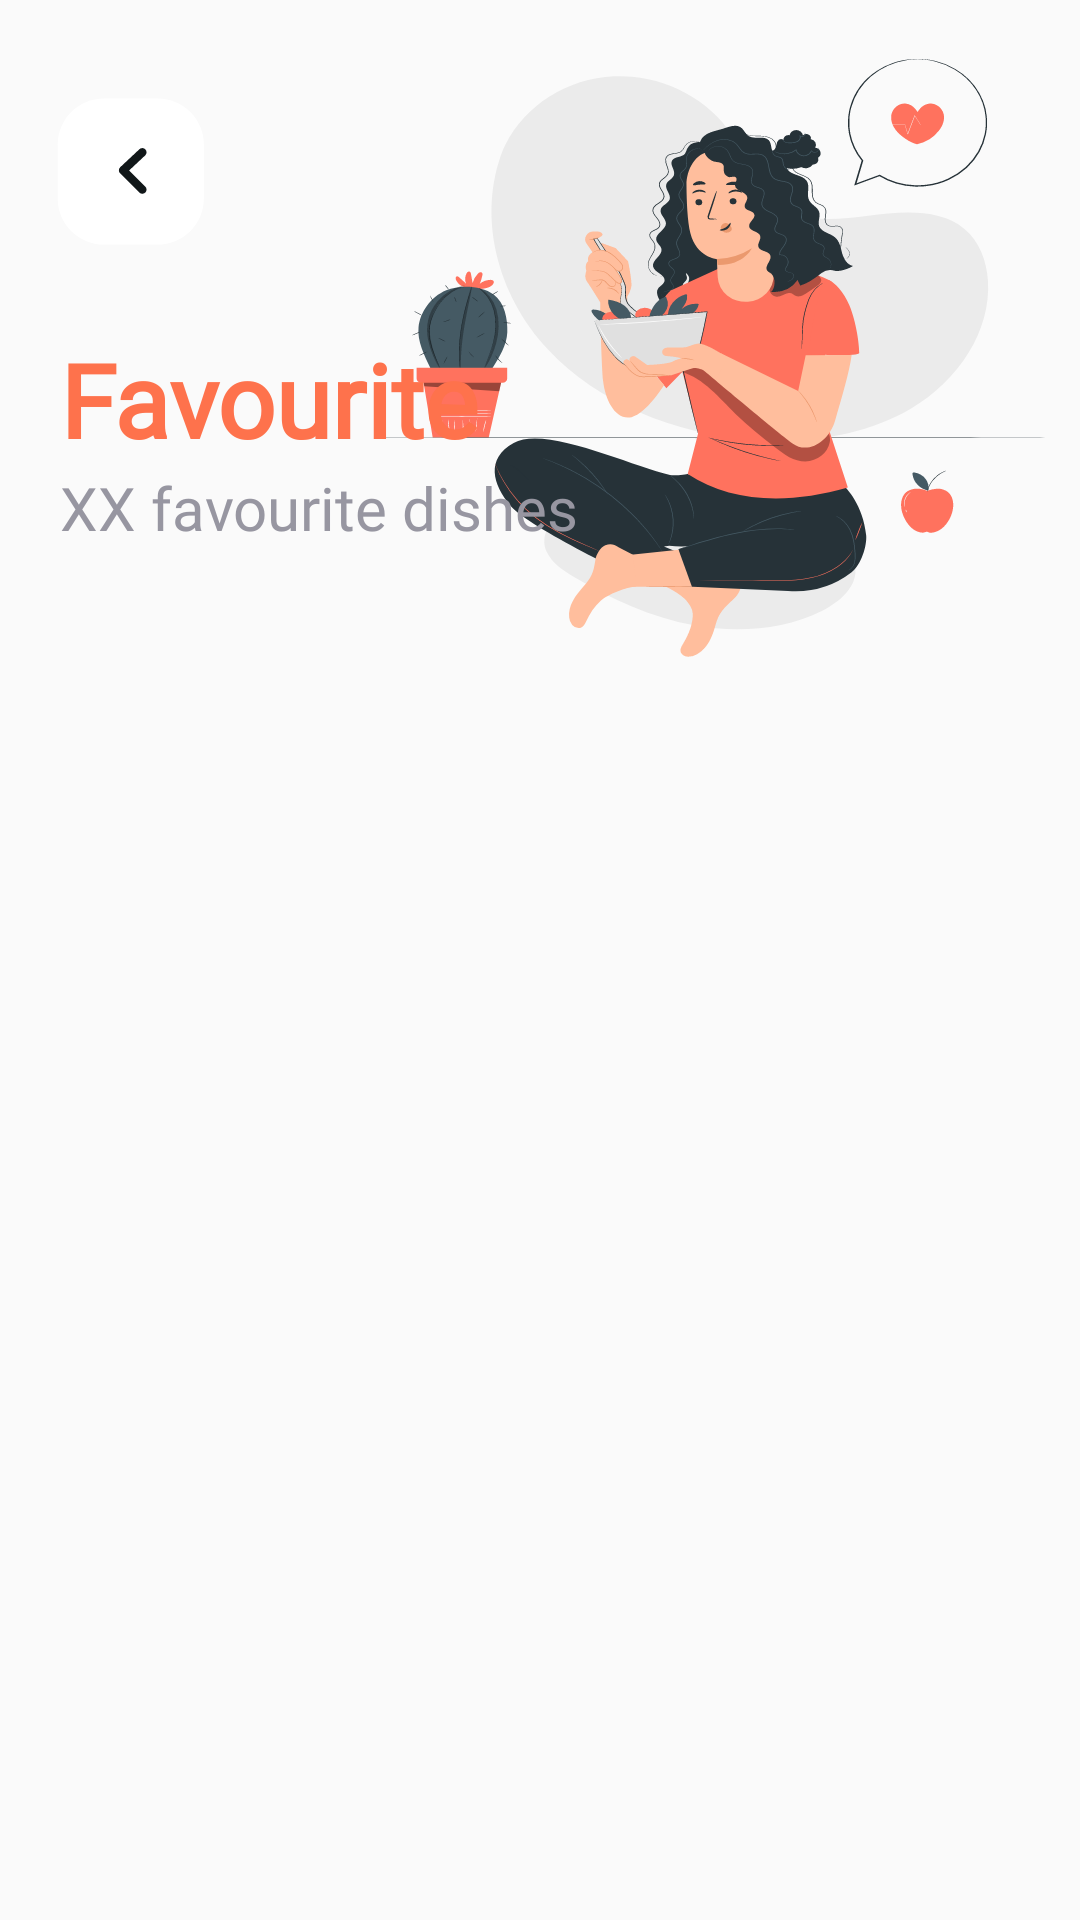

Named icons in this screenshot (1080*1920) and their bounding boxes, (x1, y1, x2, y2):
back: (119, 148, 147, 194)
